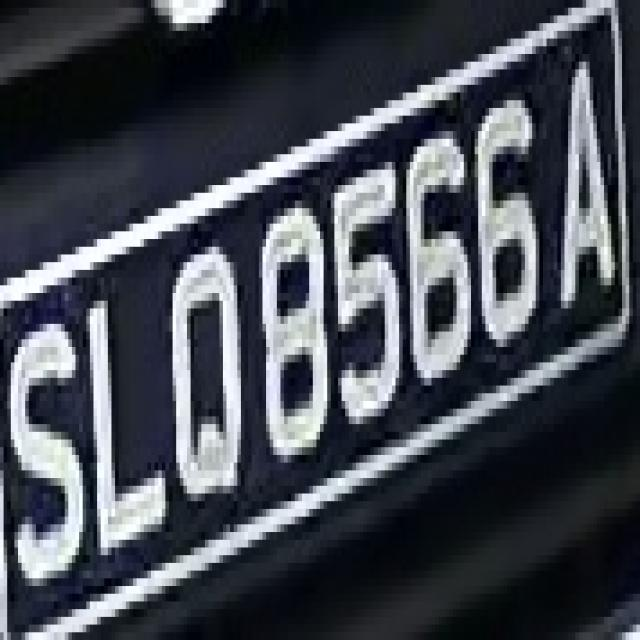5: (320, 139, 417, 439)
6: (396, 100, 478, 401), (464, 77, 543, 347)
8: (252, 177, 334, 478)
A: (547, 31, 622, 331)
L: (79, 254, 169, 570)
Q: (154, 200, 252, 524)
S: (3, 278, 82, 624)
